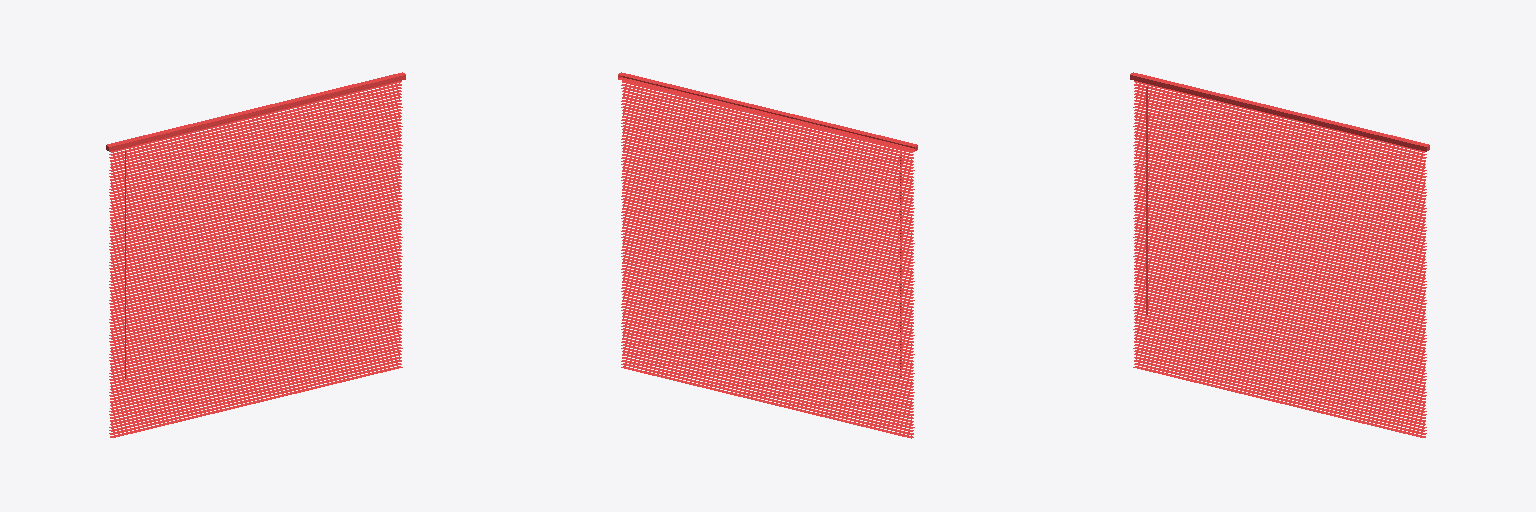
Rendered from cat13_blinds.obj.
3 views of the same model, side by side, from view 1: azimuth 30°, elevation 25°; view 2: azimuth 150°, elevation 25°; view 3: azimuth 330°, elevation 25° (orthographic).
Visible parts, largest first — view 1: Layer_Layer0, Component#1, Component#1 2, Component#1 3, Component#1 4, Component#1 5, Component#1 6, Component#1 7, Component#1 10, Component#1 11, Component#1 12, Component#1 14 (+28 smaller); view 2: Layer_Layer0, Component#1 16, Component#1 17, Component#1 51, Component#1 52, Component#1 86, Component#1 87, Component#1 11, Component#1 12, Component#1 13, Component#1 14, Component#1 15 (+28 smaller); view 3: Layer_Layer0, Component#1, Component#1 2, Component#1 3, Component#1 4, Component#1 5, Component#1 6, Component#1 7, Component#1 10, Component#1 11, Component#1 12, Component#1 14 (+28 smaller).
Part boxes in pixels (bbox=[...]): Layer_Layer0: bbox=[106, 72, 405, 151]; Component#1: bbox=[110, 366, 402, 437]; Component#1 2: bbox=[109, 363, 401, 434]; Component#1 3: bbox=[109, 359, 401, 431]; Component#1 4: bbox=[109, 356, 401, 428]; Component#1 5: bbox=[110, 353, 401, 425]; Component#1 6: bbox=[110, 350, 401, 422]; Component#1 7: bbox=[110, 347, 402, 418]; Component#1 10: bbox=[110, 337, 401, 409]; Component#1 11: bbox=[110, 334, 401, 406]; Component#1 12: bbox=[110, 331, 401, 403]; Component#1 14: bbox=[109, 325, 401, 396]; Layer_Layer0: bbox=[618, 72, 917, 151]; Component#1 16: bbox=[622, 318, 913, 390]; Component#1 17: bbox=[622, 315, 913, 387]; Component#1 51: bbox=[622, 207, 913, 279]; Component#1 52: bbox=[622, 204, 913, 276]; Component#1 86: bbox=[622, 96, 913, 168]; Component#1 87: bbox=[622, 93, 913, 165]; Component#1 11: bbox=[622, 334, 913, 406]; Component#1 12: bbox=[622, 331, 913, 403]; Component#1 13: bbox=[621, 328, 913, 400]; Component#1 14: bbox=[621, 325, 913, 396]; Component#1 15: bbox=[621, 322, 914, 393]; Layer_Layer0: bbox=[1130, 72, 1429, 151]; Component#1: bbox=[1133, 366, 1425, 437]; Component#1 2: bbox=[1134, 363, 1426, 434]; Component#1 3: bbox=[1134, 359, 1426, 431]; Component#1 4: bbox=[1134, 356, 1426, 428]; Component#1 5: bbox=[1134, 353, 1425, 425]; Component#1 6: bbox=[1134, 350, 1425, 422]; Component#1 7: bbox=[1133, 347, 1425, 418]; Component#1 10: bbox=[1134, 337, 1425, 409]; Component#1 11: bbox=[1134, 334, 1425, 406]; Component#1 12: bbox=[1134, 331, 1425, 403]; Component#1 14: bbox=[1134, 325, 1426, 396].
Size of the model in its own units: 49 by 46.11 by 1.